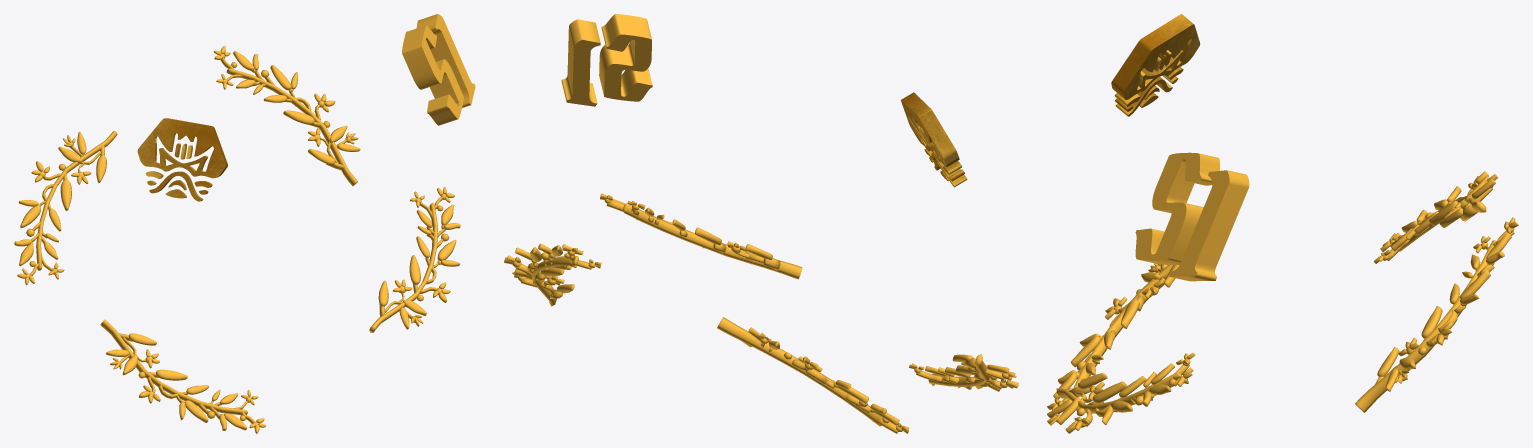
Rendered from s1_legacy_troop_aura.glb.
3 views of the same model, side by side, from view 1: azimuth 30°, elevation 25°; view 2: azimuth 150°, elevation 25°; view 3: azimuth 270°, elevation 25° (orthographic). The views are drawn at different scales.
Parts seen in each view (by area): view 1: legacy_aura; view 2: legacy_aura; view 3: legacy_aura.
Part boxes in pixels (bbox=[...]): legacy_aura: bbox=[14, 14, 475, 433]; legacy_aura: bbox=[504, 14, 1018, 433]; legacy_aura: bbox=[1047, 14, 1518, 433].
Bounding box in the file's own units: 0.8468 × 0.6611 × 0.7082.
2 materials, 1 textured.
